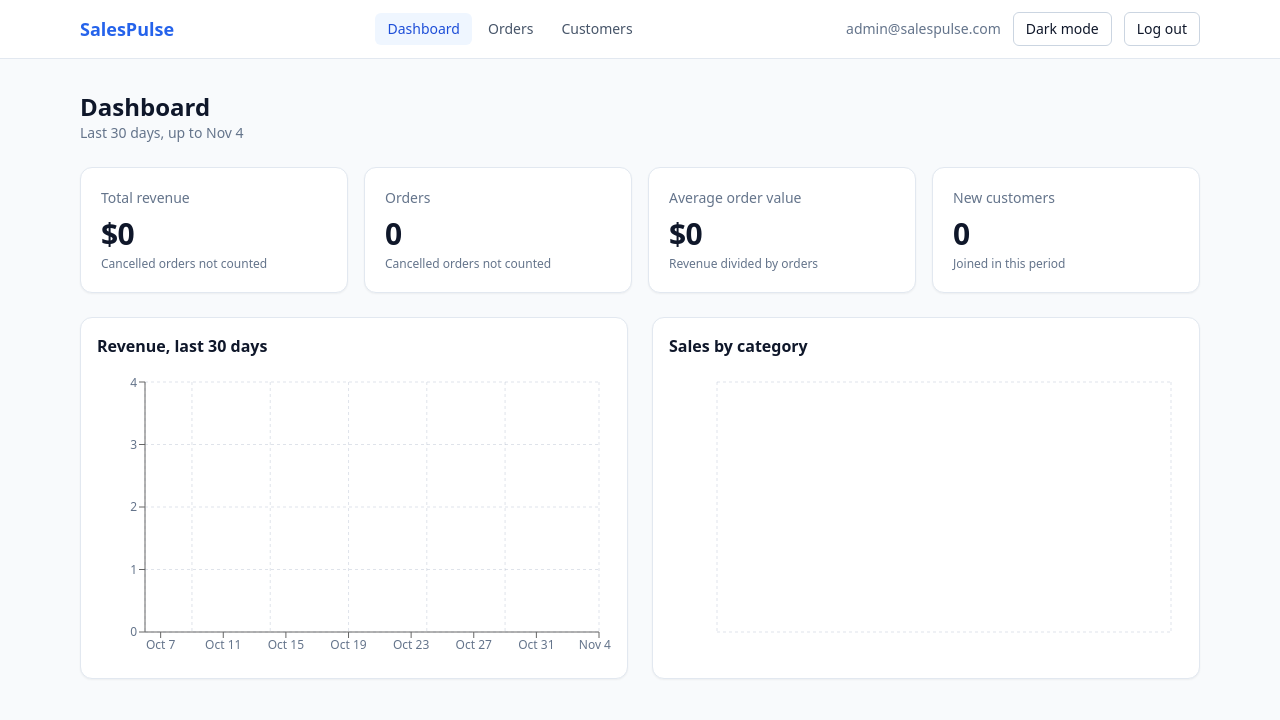
Scenario: app layout › opens the Customers page from the navigation
This screenshot has width=1280, height=720.
Click the link "Customers".
click(597, 28)  # box [561,19,633,38]
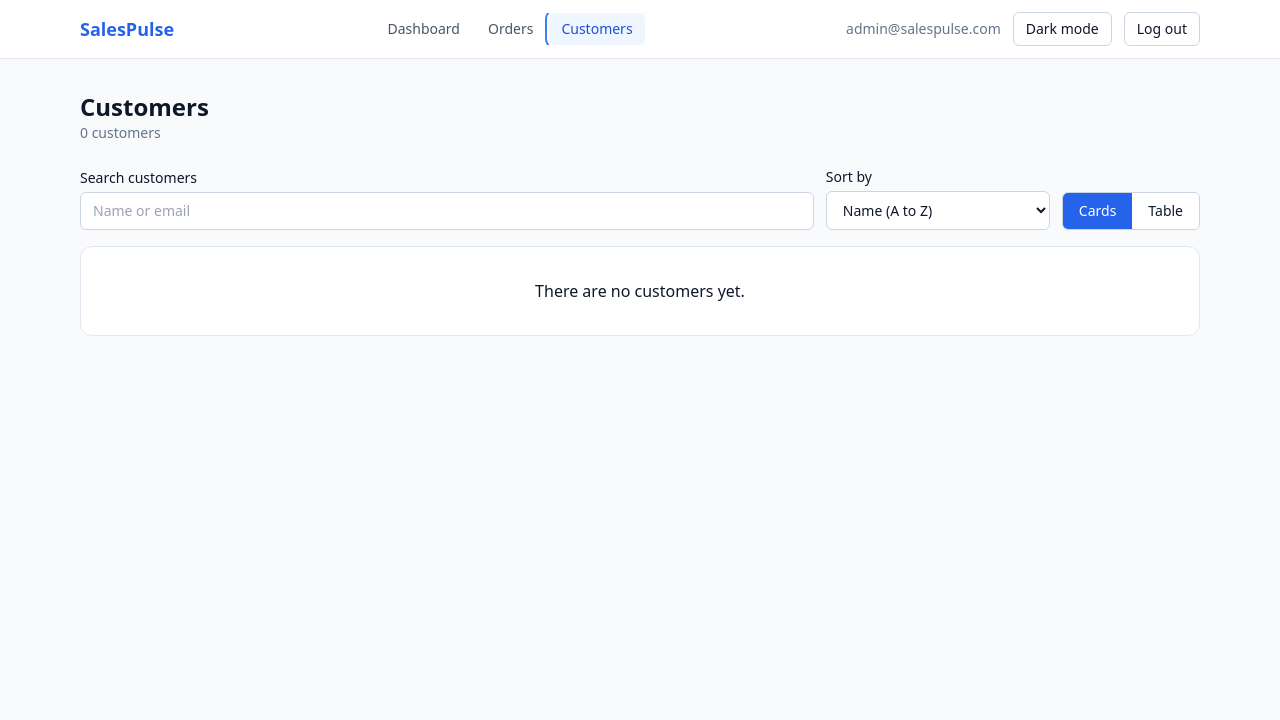
Expected: the heading "Customers" is shown, [80,90,209,123]
